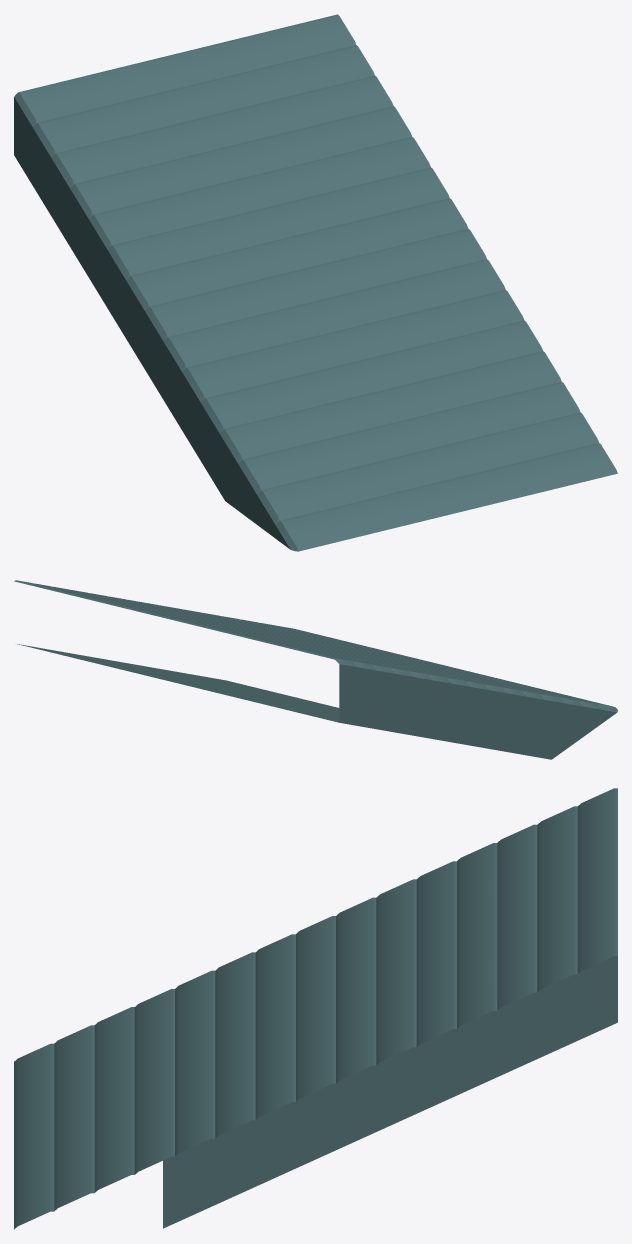
File: CA_132_cosmodrome_floor_slope_left_end_var4.glb
The picture shows the model from 3 angles, top to bottom: view 1: azimuth 30°, elevation 25°; view 2: azimuth 150°, elevation 25°; view 3: azimuth 270°, elevation 25°; orthographic projection. The views are drawn at different scales.
Parts seen in each view (by area): view 1: slope; view 2: slope; view 3: slope.
Part boxes in pixels (x1,y1,x2,y2): slope: (14, 14, 617, 551); slope: (14, 580, 617, 759); slope: (14, 788, 617, 1229).
Bounding box in the file's own units: 1.5 × 1.13 × 2.25.
